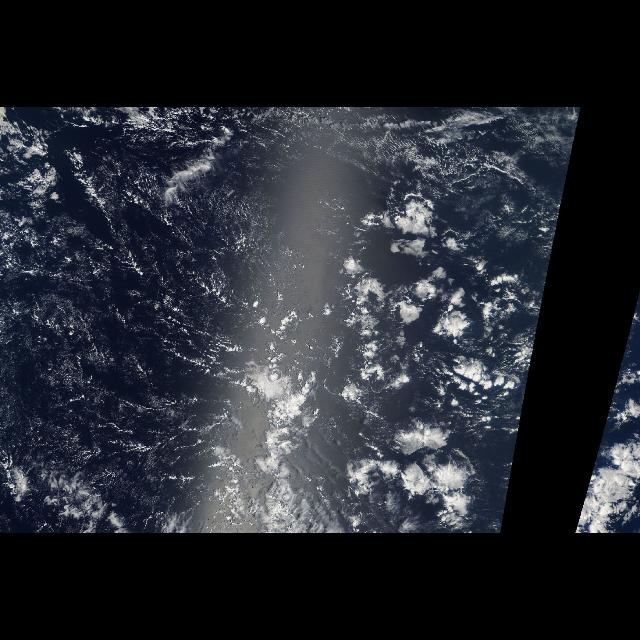Flower: (252, 184, 568, 524), (577, 416, 607, 524)
Gravel: (232, 232, 522, 534)
Sugar: (8, 180, 244, 490)
